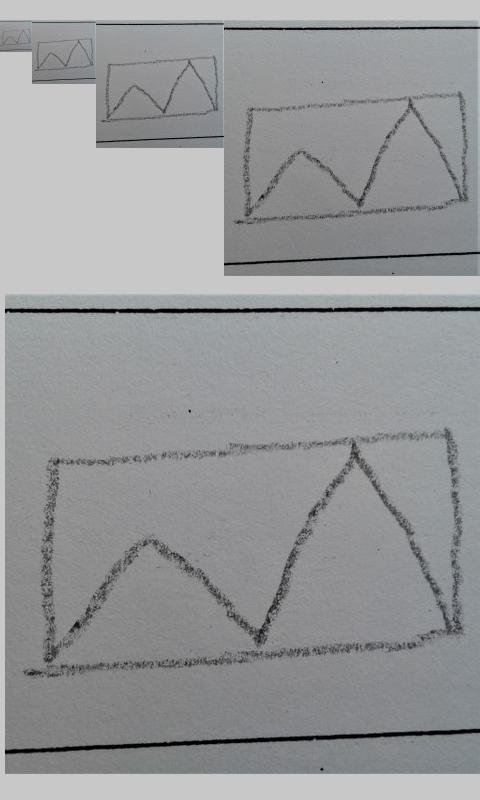image_view: (35, 429, 467, 674), (240, 90, 469, 225), (106, 56, 218, 121), (36, 38, 93, 72), (1, 28, 31, 46)
